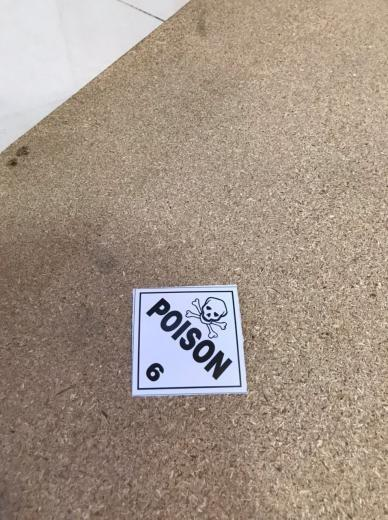poison: (131, 288, 248, 394)
